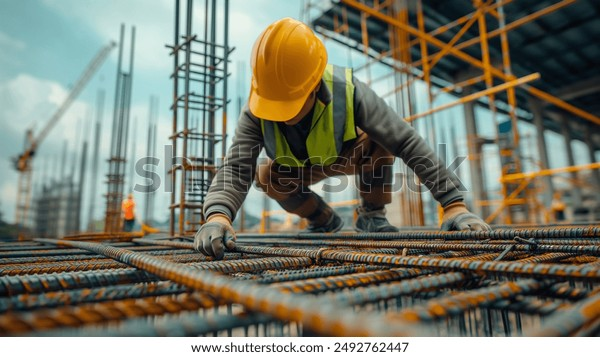jacket: (329, 64, 355, 166)
yellow_hat: (245, 20, 326, 123)
